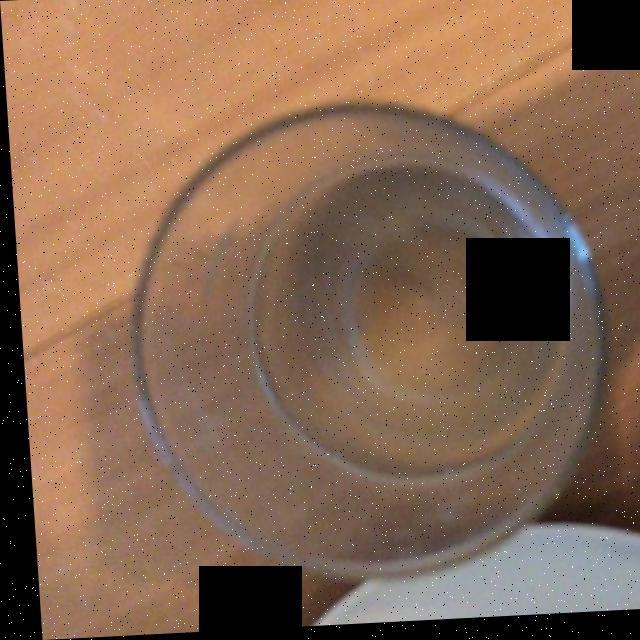water: (264, 180, 558, 469)
